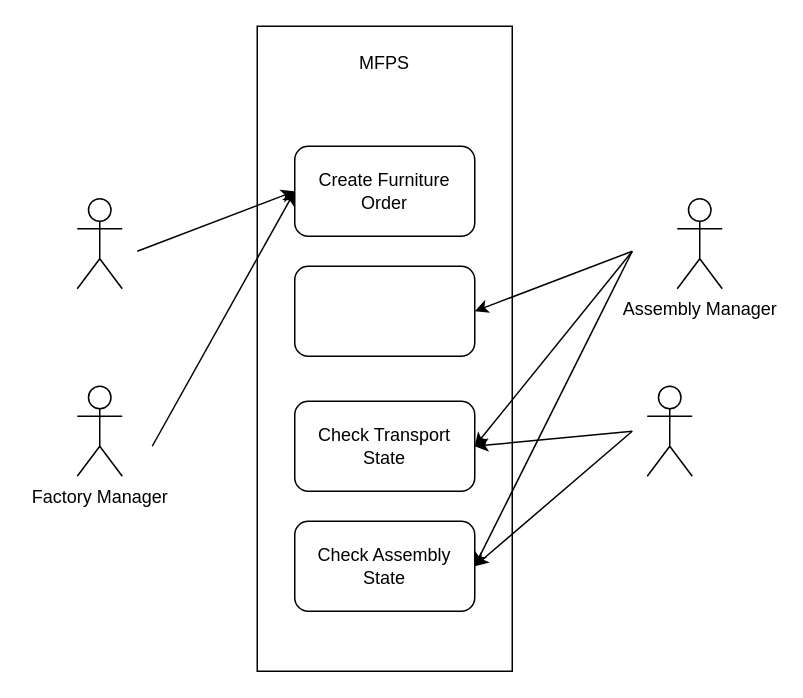
The diagram is 803 pixels wide and 698 high, and some of its shapes have lost their labels. The shapes that lost their labels are listed below. From the top down, each one's box as (x1, y1, x2, y2) in pixels, then its label:
(76, 197, 122, 289): External Customer
(293, 265, 475, 356): Create Transport Order
(646, 385, 692, 476): Transport Manager
